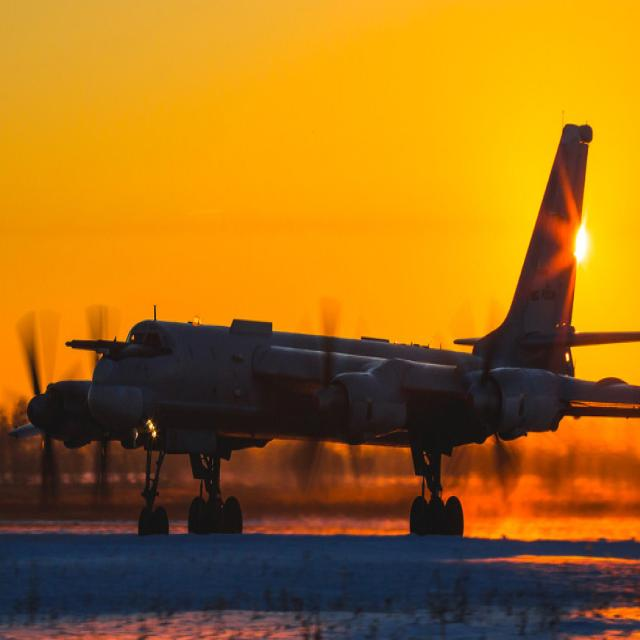MIL_Plane: (2, 110, 640, 535)
